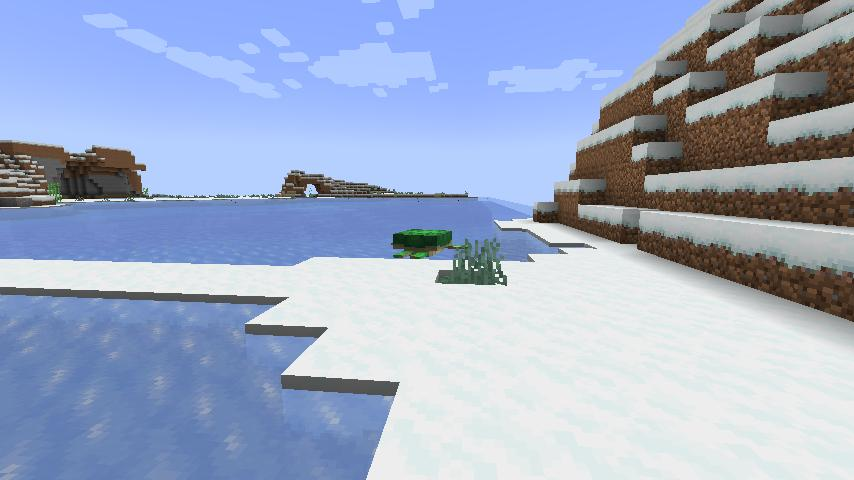turtle: (388, 224, 470, 262)
